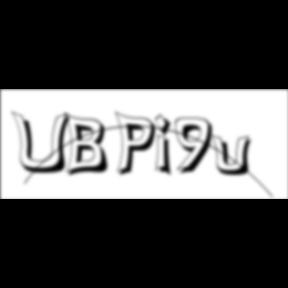9: (174, 117, 220, 177)
B: (64, 111, 114, 179)
P: (115, 110, 162, 180)
U: (12, 110, 76, 176)
i: (155, 112, 179, 180)
u: (210, 132, 258, 178)
